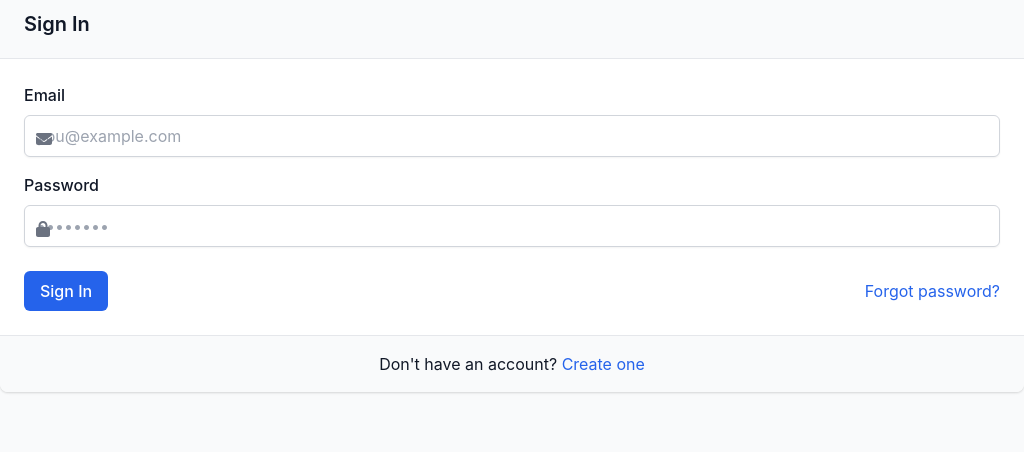
Test: LoginForm Component › handles Firebase auth "too many requests" error
# Fill in valid data
Type "test@example.com" into the field labelled "Email" at [512, 136], box x1=24 y1=115 x2=1000 y2=157
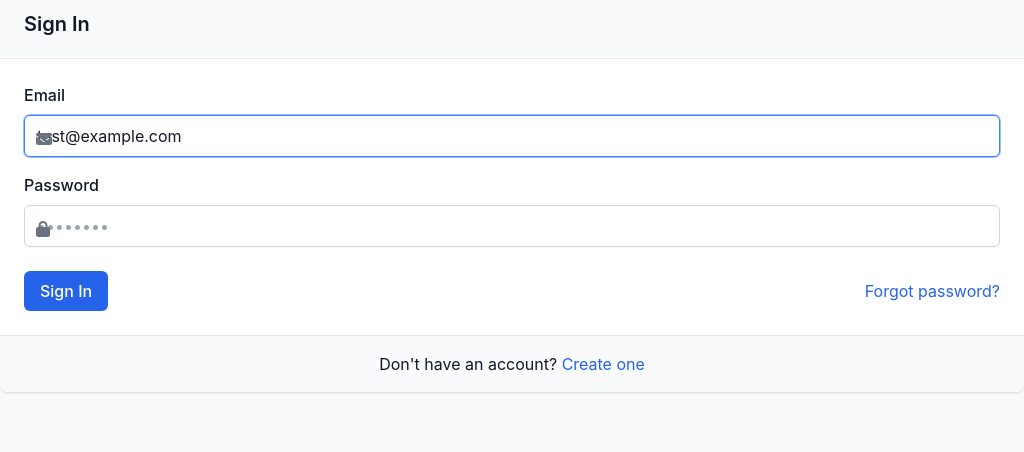
Type "Password123!" into the password field labelled "Password" at [512, 226], box x1=24 y1=205 x2=1000 y2=247
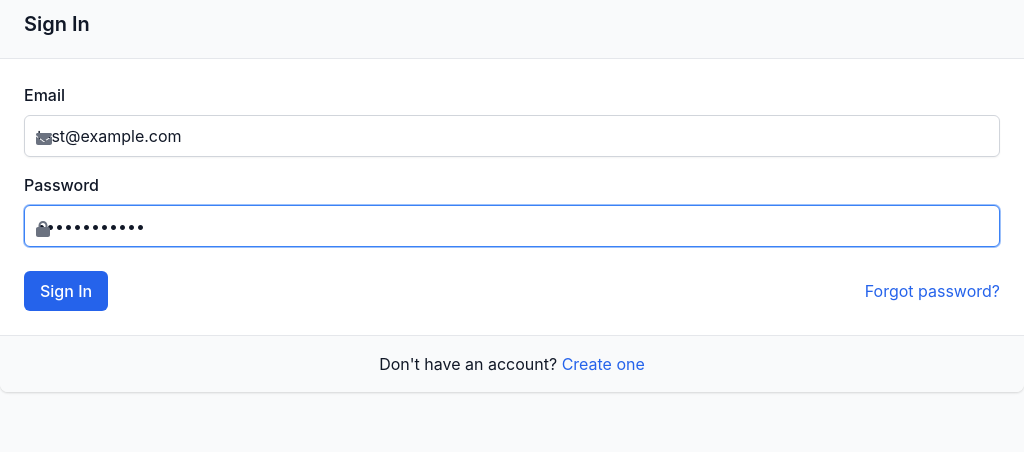
# Submit the form
Click the button "Sign In" at [66, 291], box x1=24 y1=271 x2=108 y2=311
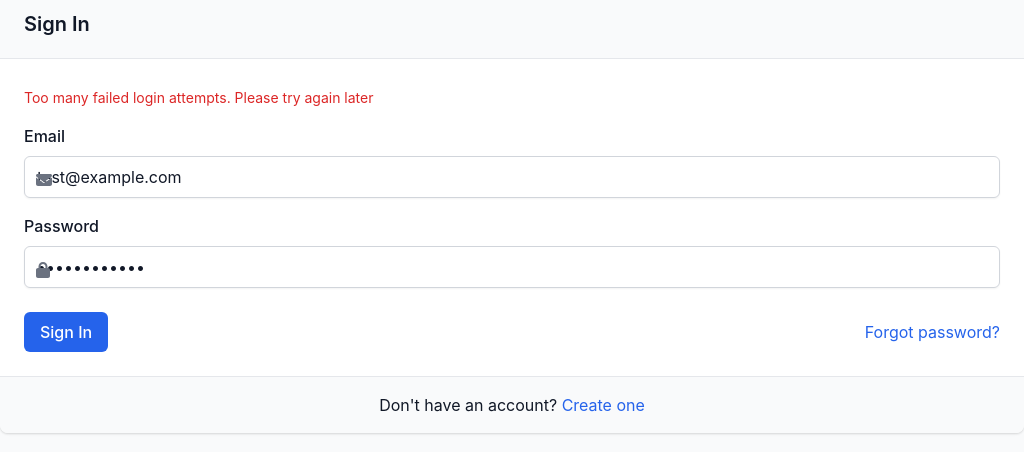
Expected: the text "Too many failed login attempts. Please try again later" is shown, x1=24 y1=89 x2=374 y2=106
